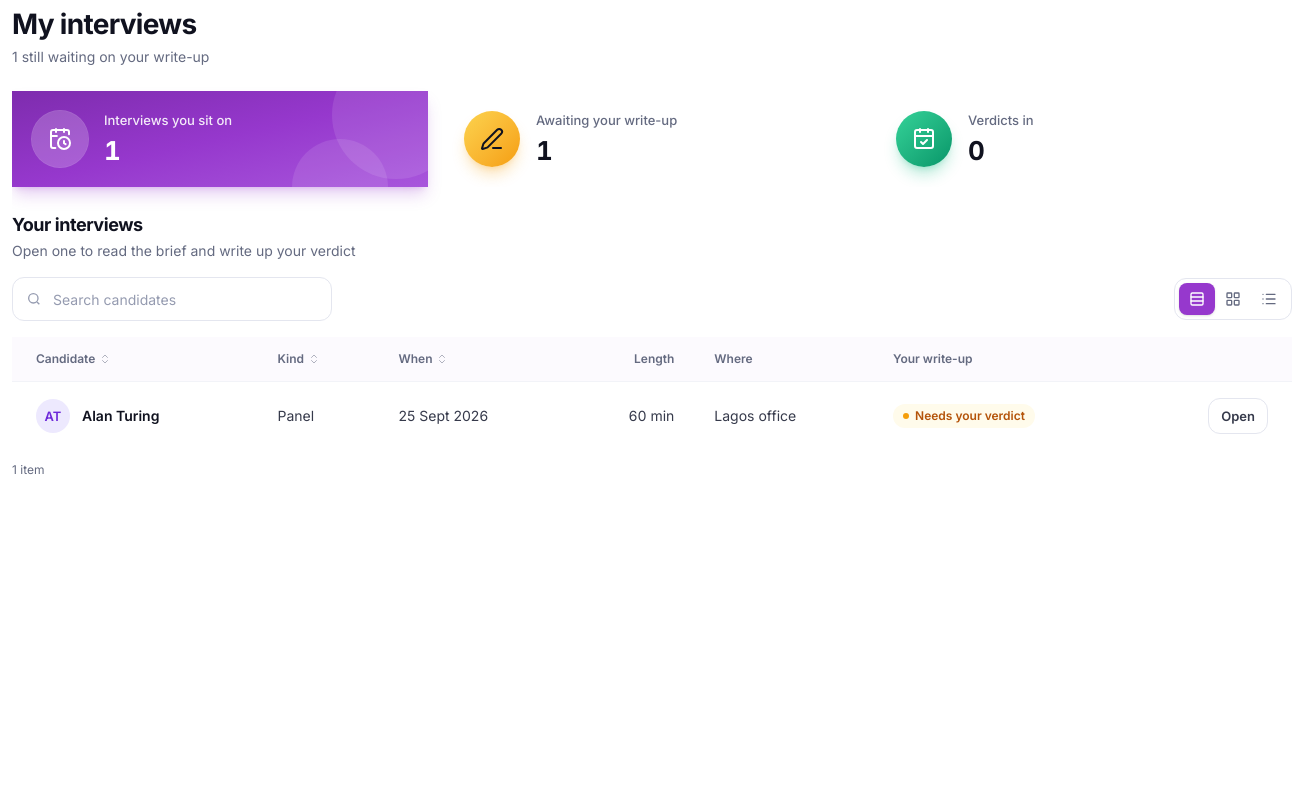
it: MyInterviews › the anchoring rule › explains why it is hidden rather than showing nothing
Click the button "Open". click: click(1238, 416)
box: [1208,398,1268,434]
(page scrolled)
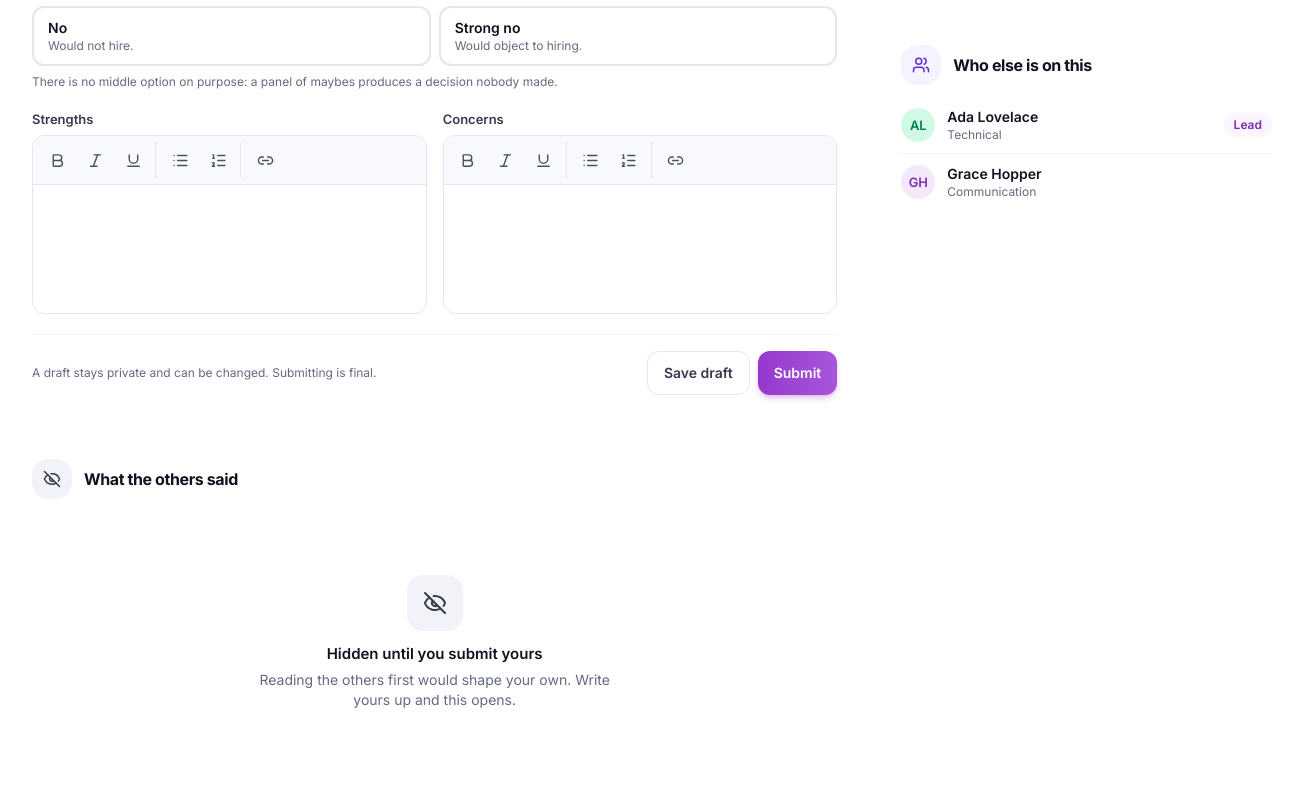
Now the text "Reading the others first would shape your own" is shown, box [259,671,610,708]
